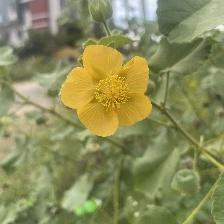indian mallow: (61, 44, 155, 140)
